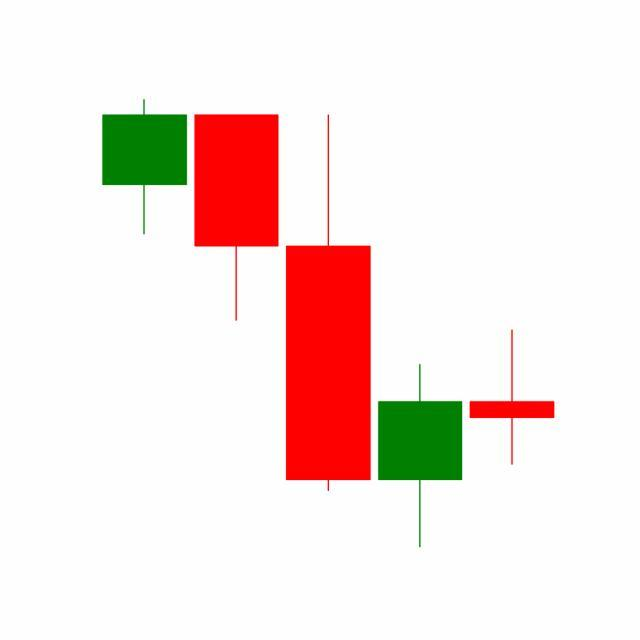Spinning Top: (466, 328, 559, 467)
